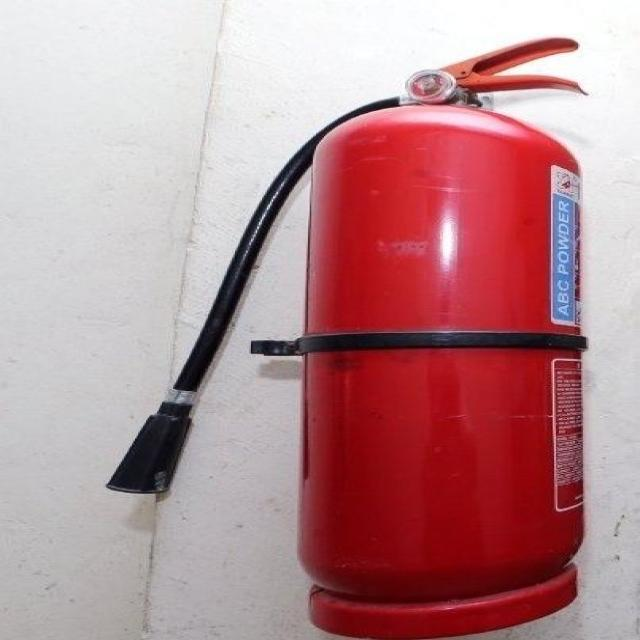fire_extinguisher: (93, 33, 598, 639)
